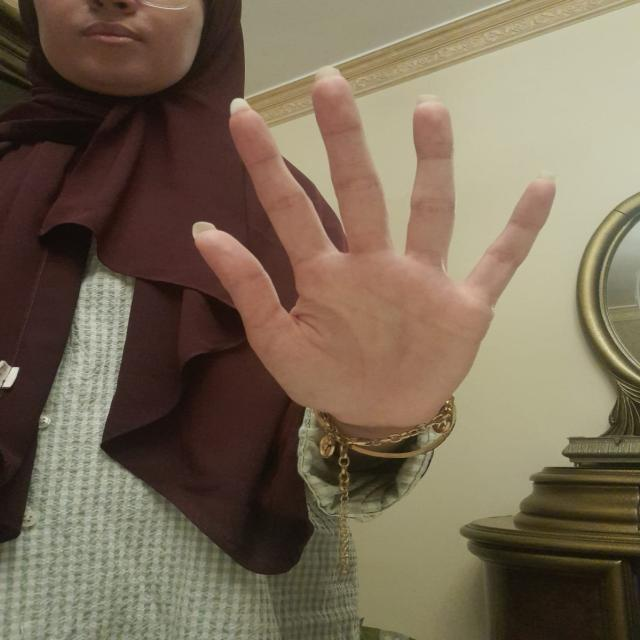Open Hand: (189, 75, 558, 428)
